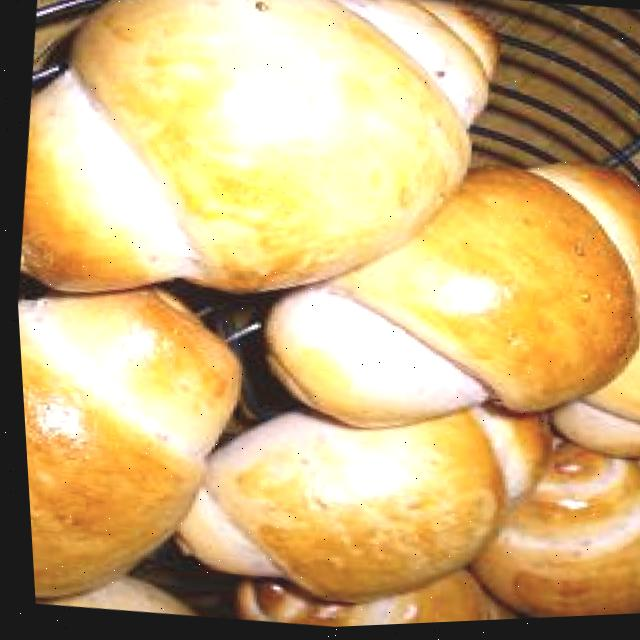面包点心: (1, 0, 541, 352)
